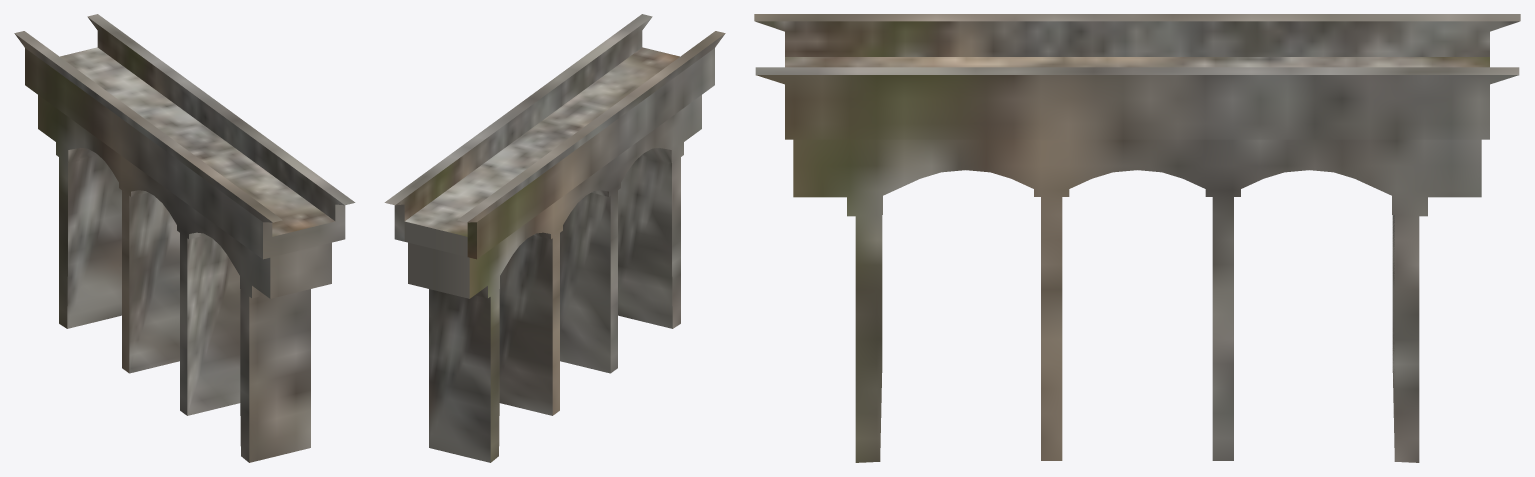
Rendered from Jembatann.fbx.
The picture shows the model from 3 angles, left to right: view 1: azimuth 30°, elevation 25°; view 2: azimuth 150°, elevation 25°; view 3: azimuth 270°, elevation 25°; orthographic projection. The views are drawn at different scales.
Parts seen in each view (by area): view 1: Jembatann; view 2: Jembatann; view 3: Jembatann.
Part boxes in pixels (bbox=[...]): Jembatann: bbox=[14, 14, 355, 462]; Jembatann: bbox=[384, 14, 725, 462]; Jembatann: bbox=[754, 14, 1520, 462].
Size of the model in its own units: 697 by 2148 by 3759.
1 material, 1 textured.
